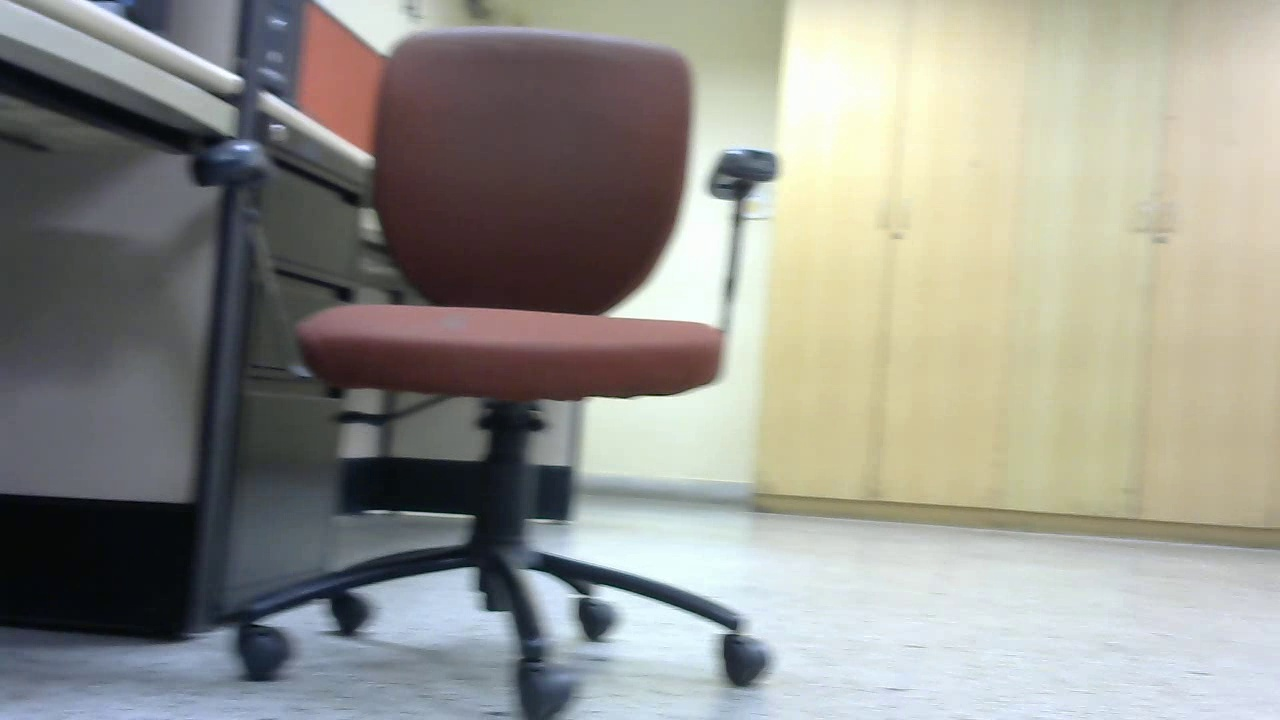chair: (597, 232, 872, 582), (230, 191, 429, 526)
